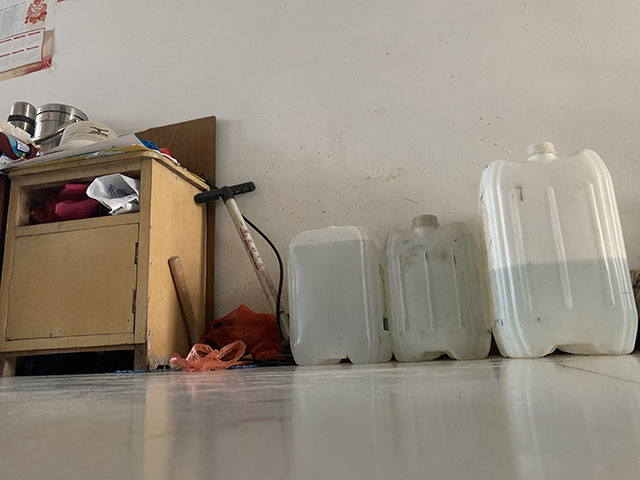cabinet: (1, 149, 211, 377)
